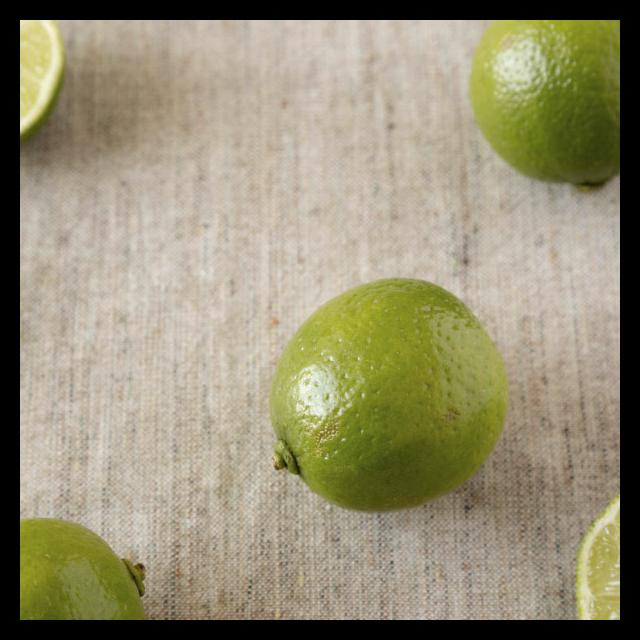lime: (258, 268, 521, 518), (462, 20, 620, 195), (20, 509, 168, 620)
